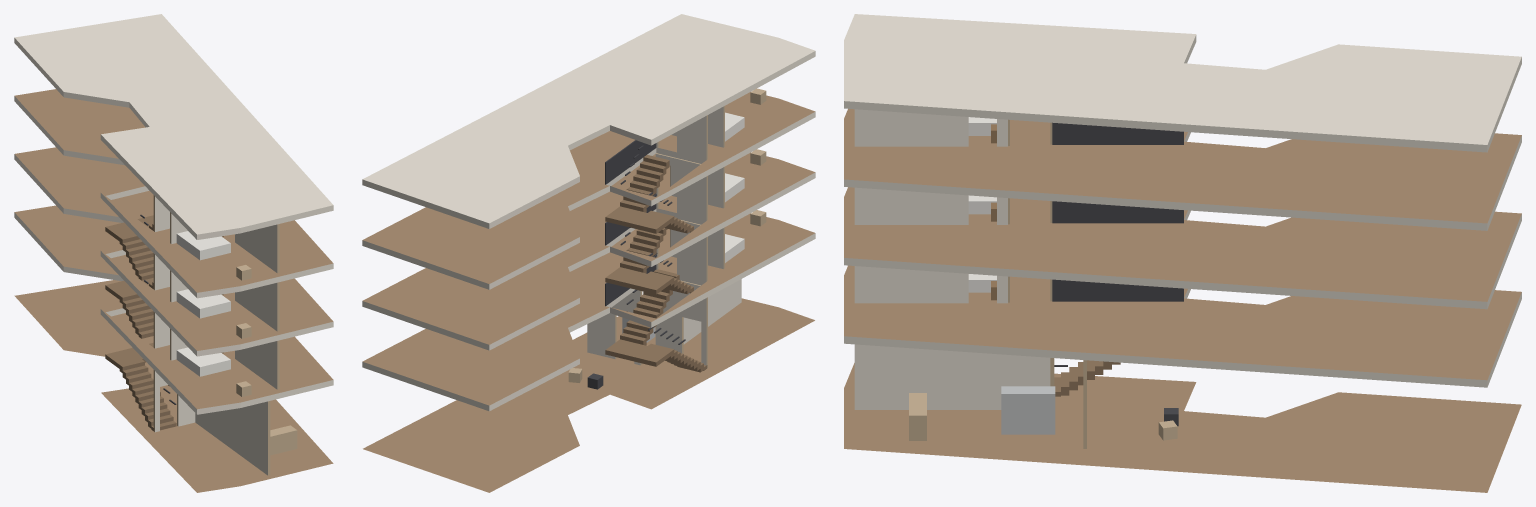
Rendered from interior.glb.
3 renders of one model, left to right at view 1: azimuth 30°, elevation 25°; view 2: azimuth 150°, elevation 25°; view 3: azimuth 270°, elevation 25°, orthographic. The views are drawn at different scales.
Visible parts, largest first — view 1: slabs, partitions, stair, coarse-s2, coarse-s1, coarse-s3, coarse-s0; view 2: slabs, partitions, stair, coarse-s2, coarse-s3, coarse-s1, coarse-s0; view 3: slabs, partitions, stair, coarse-s0.
Part boxes in pixels (left/top/right/bottom): slabs: left=14, top=14, right=333, bottom=492; partitions: left=153, top=195, right=279, bottom=475; stair: left=105, top=214, right=176, bottom=431; coarse-s2: left=176, top=289, right=251, bottom=338; coarse-s1: left=176, top=347, right=251, bottom=396; coarse-s3: left=176, top=231, right=251, bottom=280; coarse-s0: left=168, top=385, right=297, bottom=455; slabs: left=362, top=14, right=815, bottom=492; partitions: left=587, top=106, right=741, bottom=368; stair: left=605, top=140, right=707, bottom=372; coarse-s2: left=725, top=149, right=766, bottom=202; coarse-s3: left=725, top=88, right=766, bottom=141; coarse-s1: left=725, top=210, right=766, bottom=262; coarse-s0: left=568, top=317, right=655, bottom=389; slabs: left=844, top=14, right=1521, bottom=492; partitions: left=854, top=109, right=1086, bottom=448; stair: left=1052, top=122, right=1183, bottom=396; coarse-s0: left=909, top=386, right=1178, bottom=440.
Size of the model in its own units: 9.83 by 12.18 by 21.47.
